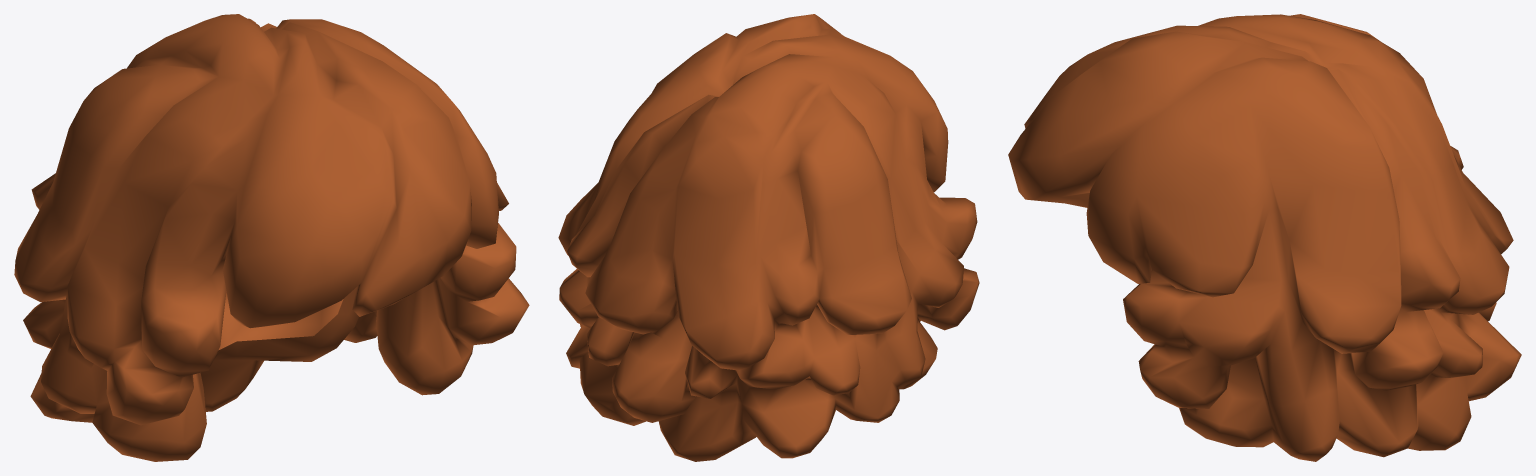
3 views of the same model, side by side, from view 1: azimuth 30°, elevation 25°; view 2: azimuth 150°, elevation 25°; view 3: azimuth 270°, elevation 25° (orthographic). The views are drawn at different scales.
Parts seen in each view (by area): view 1: Wolf3D_Hair.034; view 2: Wolf3D_Hair.034; view 3: Wolf3D_Hair.034.
Boxes of the visible parts, box(x1,y1,x2,y2) form: Wolf3D_Hair.034: box(14, 14, 529, 461); Wolf3D_Hair.034: box(558, 14, 979, 461); Wolf3D_Hair.034: box(1008, 14, 1521, 461).
Bounding box in the file's own units: 0.2333 × 0.2248 × 0.2586.
1 material, 1 textured.
